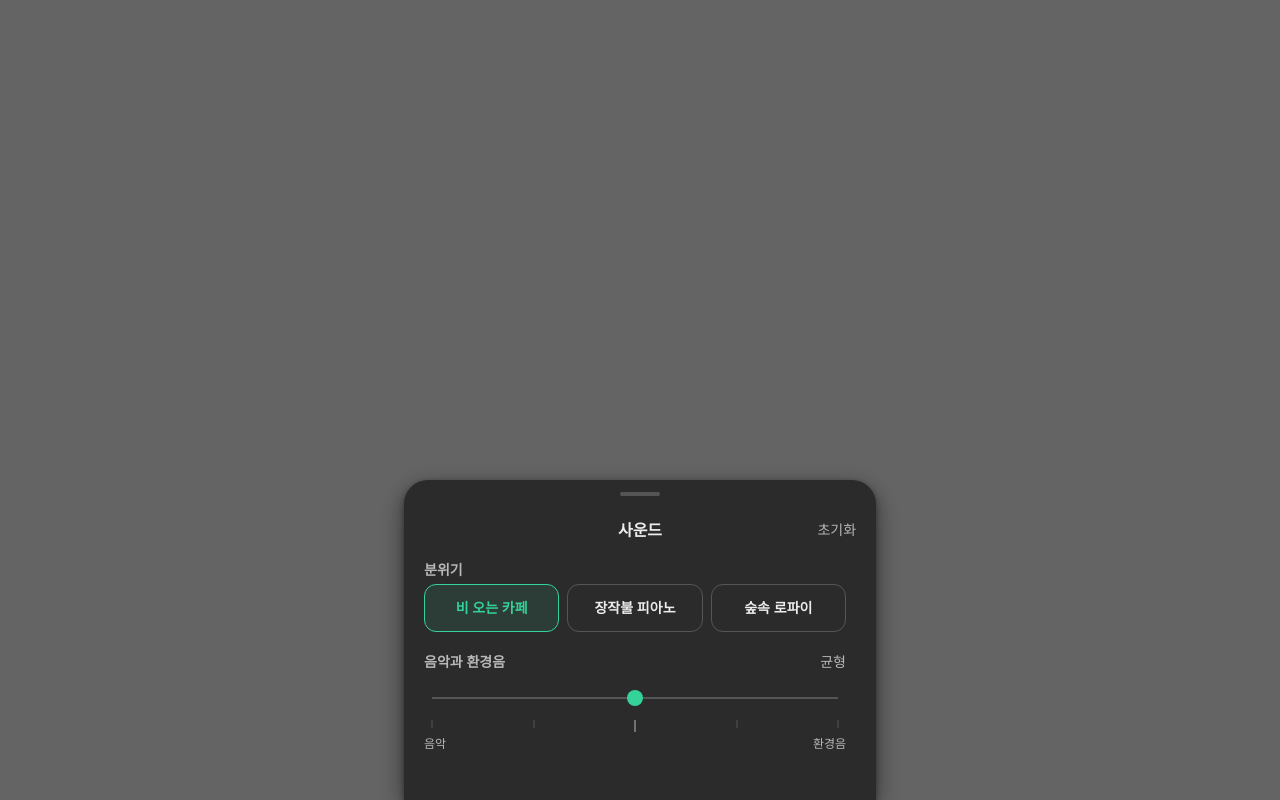
Test: SoundSheet › shows the current balance step name next to the slider
The image size is (1280, 800).
Expected: the text "균형" is shown, left=820, top=652, right=846, bottom=672
Set the slider named "음악과 환경음 비율" to "0.25" at (534, 698), box left=424, top=676, right=846, bottom=720
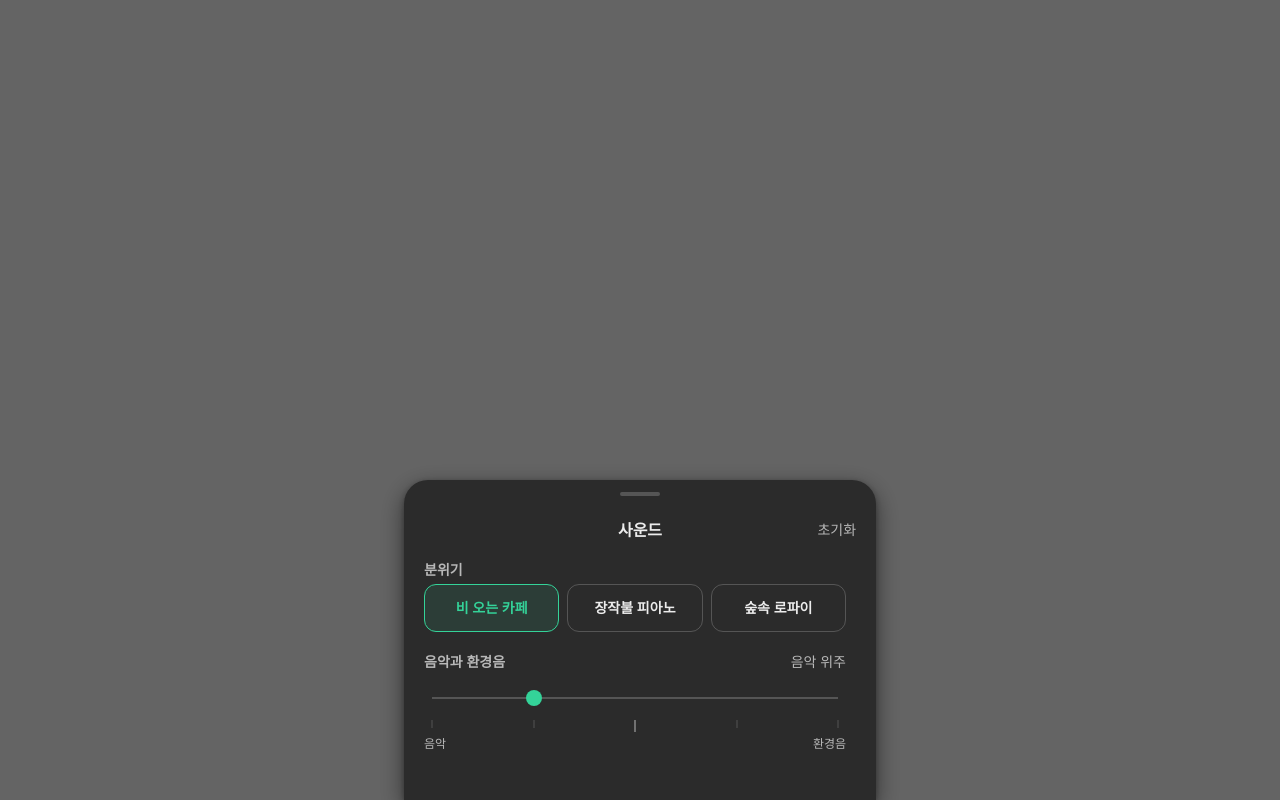
Expected: the text "음악 위주" is shown, left=791, top=652, right=846, bottom=672
